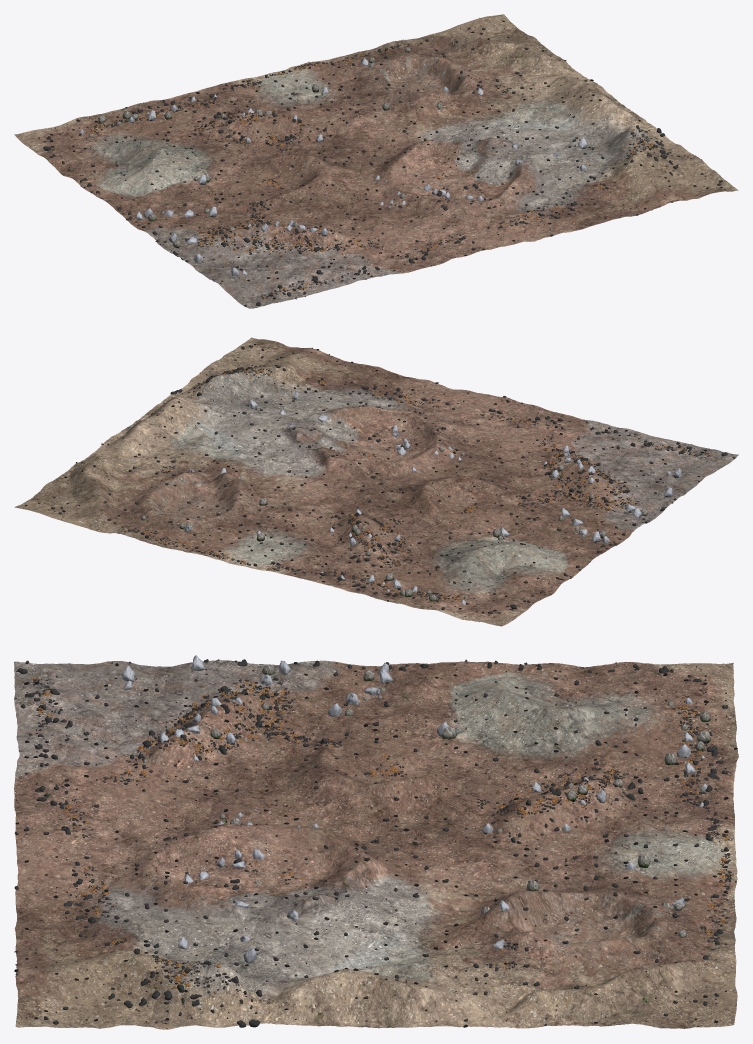
File: terrain_compressed.obj
3 views of the same model, one above another, from view 1: azimuth 30°, elevation 25°; view 2: azimuth 150°, elevation 25°; view 3: azimuth 270°, elevation 25° (orthographic). The views are drawn at different scales.
Visible parts, largest first — view 1: Plane003_Mesh, Forest004_Mesh.018, Forest003_Mesh.014, Forest001_Mesh.011, Forest002_Mesh.013; view 2: Plane003_Mesh, Forest004_Mesh.018, Forest003_Mesh.014, Forest001_Mesh.011, Forest002_Mesh.013; view 3: Plane003_Mesh, Forest004_Mesh.018, Forest003_Mesh.014, Forest001_Mesh.011, Forest002_Mesh.013.
Boxes of the visible parts, x1,y1,x2,y2 form: Plane003_Mesh: (14,14,738,308); Forest004_Mesh.018: (71,46,656,300); Forest003_Mesh.014: (30,18,725,306); Forest001_Mesh.011: (78,47,587,276); Forest002_Mesh.013: (43,44,679,305); Plane003_Mesh: (14,337,738,626); Forest004_Mesh.018: (132,368,714,606); Forest003_Mesh.014: (25,341,735,617); Forest001_Mesh.011: (140,392,681,605); Forest002_Mesh.013: (122,363,727,613); Plane003_Mesh: (14,660,738,1029); Forest004_Mesh.018: (31,675,733,996); Forest003_Mesh.014: (14,659,737,1028); Forest001_Mesh.011: (122,655,710,963); Forest002_Mesh.013: (14,659,729,1027).
Bounding box in the file's own units: 43.32 × 3.01 × 36.29.
Materials: 14 (3 with a texture image).
